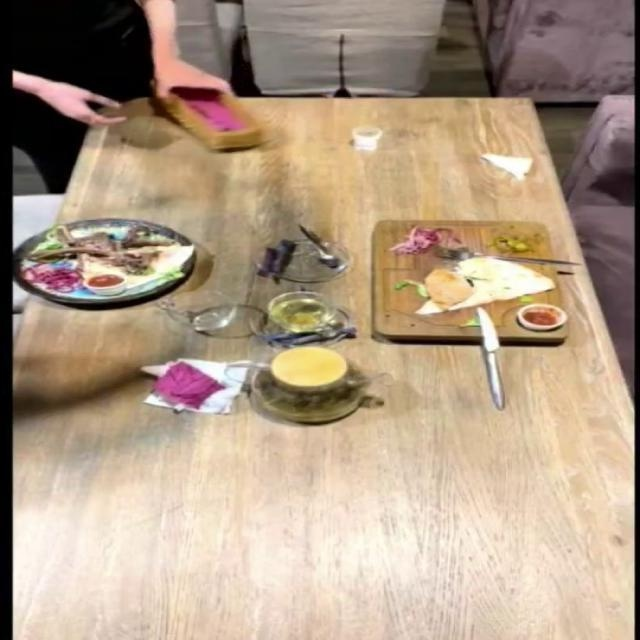meat: (367, 218, 573, 346), (0, 214, 186, 322)
tea: (230, 344, 376, 432)
